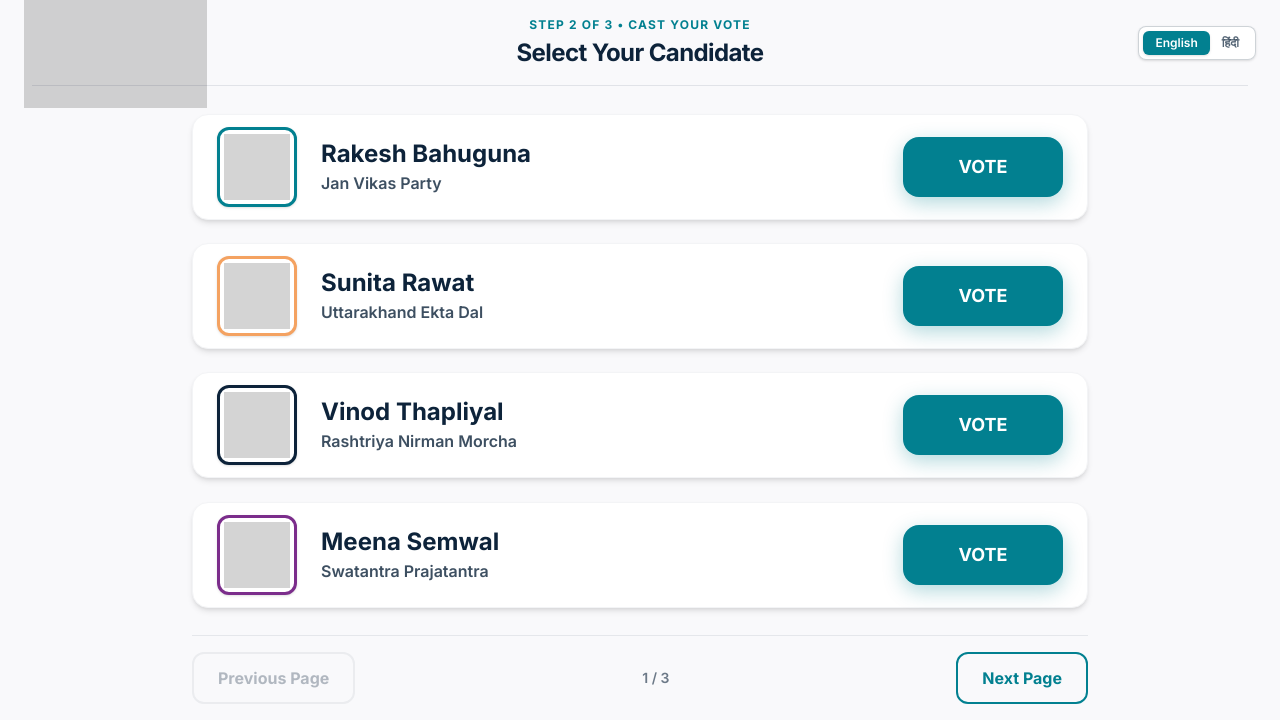
Test: BallotPage renders and allows candidate selection
Check: the heading "Select Your Candidate" is shown, box [516, 37, 764, 69]
Check: the button "English" is shown, box [1143, 31, 1210, 55]
Step 1. Click the button "VOTE" in the row of "Rakesh Bahuguna" → (983, 167), box [903, 137, 1063, 197]
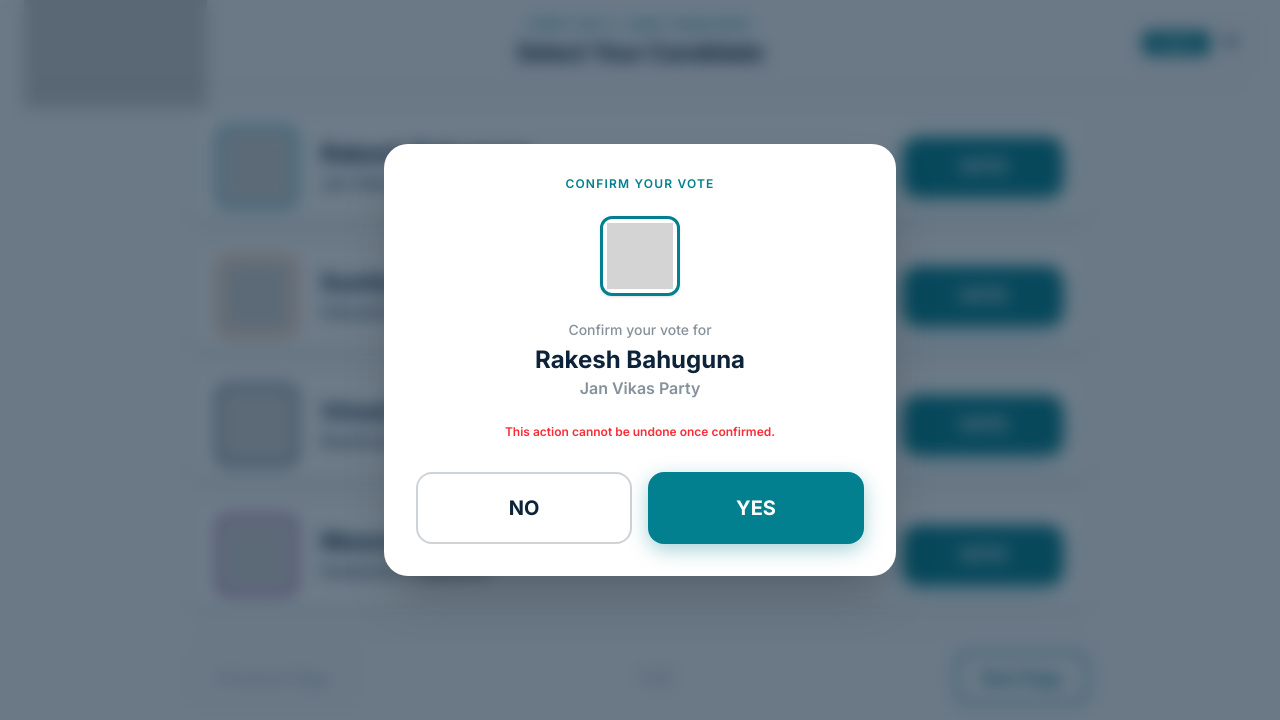
Check: the text "CONFIRM YOUR VOTE" is shown, box [565, 176, 715, 192]
Check: the button "YES" is enabled, box [648, 472, 864, 544]
